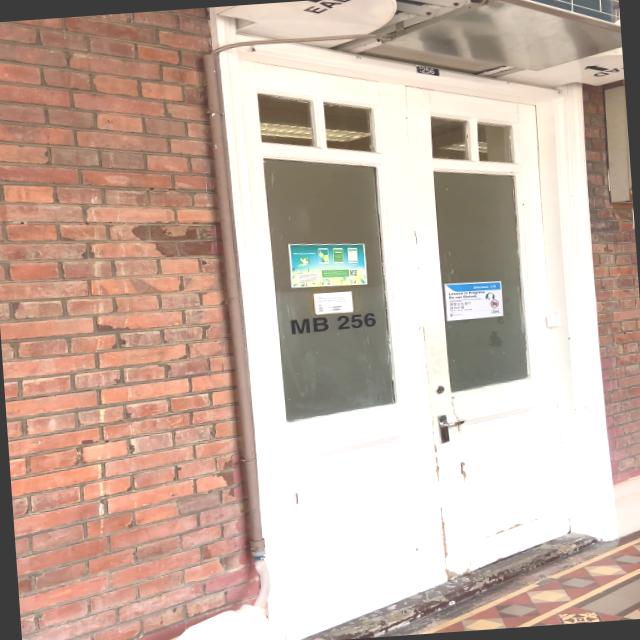room256: (408, 59, 448, 84)
room256Window: (282, 308, 383, 336)
